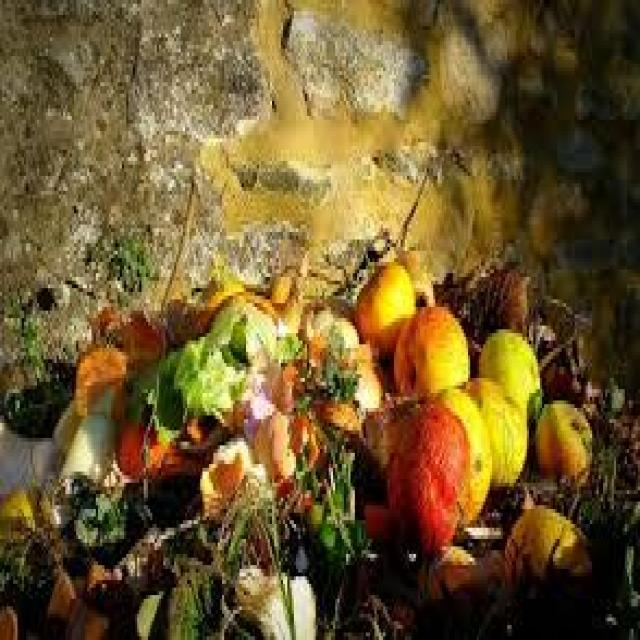food_waste: (36, 342, 593, 593)
